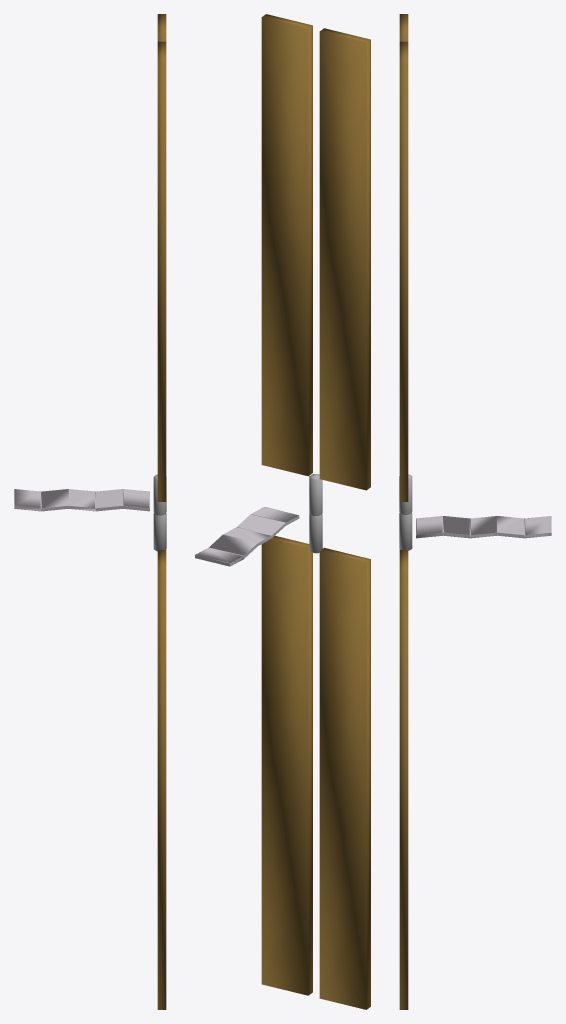
File: iss-arrays-p4.glb
The picture shows the model from 3 angles, left to right: view 1: azimuth 90°, elevation 25°; view 2: azimuth 150°, elevation 25°; view 3: azimuth 270°, elevation 25°; orthographic projection. The views are drawn at different scales.
Visible parts, largest first — view 1: arrays-p4; view 2: arrays-p4; view 3: arrays-p4.
Boxes of the visible parts, x1=… form: arrays-p4: x1=14, y1=14, x2=166, y2=1009; arrays-p4: x1=195, y1=14, x2=370, y2=1009; arrays-p4: x1=399, y1=14, x2=551, y2=1009.
Bounding box in the file's own units: 8.13 × 71.66 × 10.48.
1 material, 1 textured.
